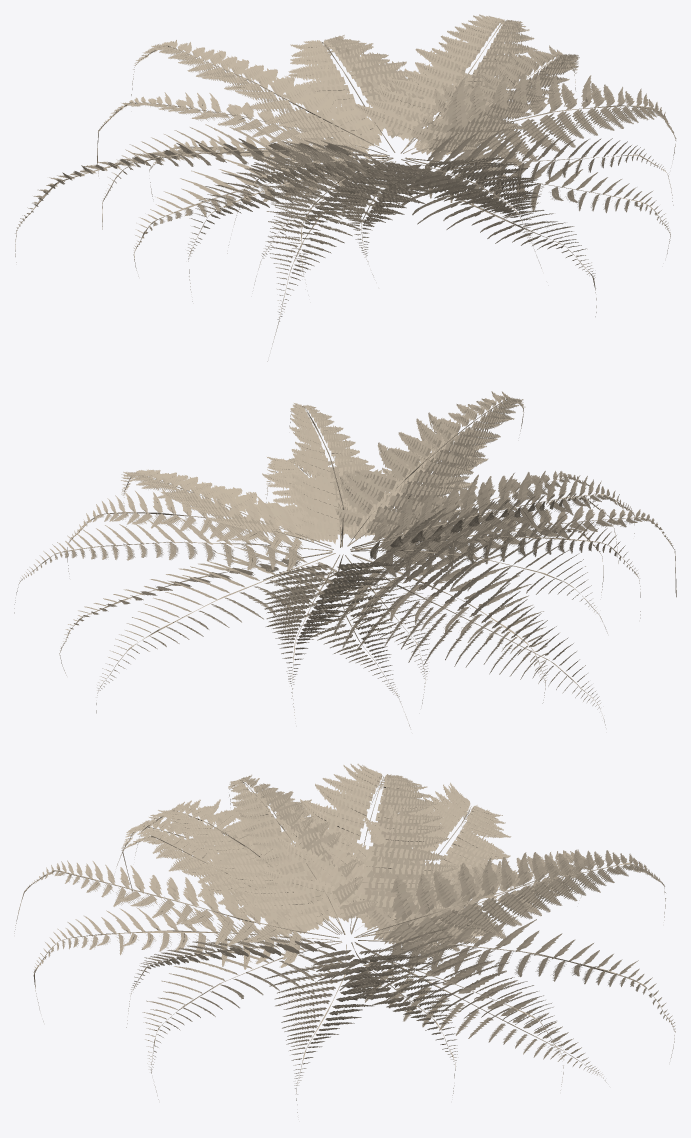
File: 3dcodebench_Fern_seed0_L1_Q0__haiku45.glb
3 renders of one model, top to bottom at view 1: azimuth 30°, elevation 25°; view 2: azimuth 150°, elevation 25°; view 3: azimuth 270°, elevation 25°, orthographic. The views are drawn at different scales.
Parts seen in each view (by area): view 1: object; view 2: object; view 3: object.
Boxes of the visible parts, box(x1,y1,x2,y2) form: object: box(15, 14, 676, 361); object: box(14, 391, 676, 727); object: box(14, 763, 675, 1112).
Size of the model in its own units: 3.45 by 0.8695 by 3.4.
